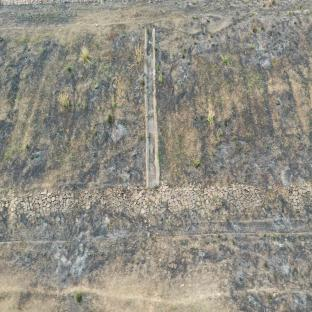rock_toe: (1, 184, 311, 228)
slope_drain: (143, 29, 160, 187)
